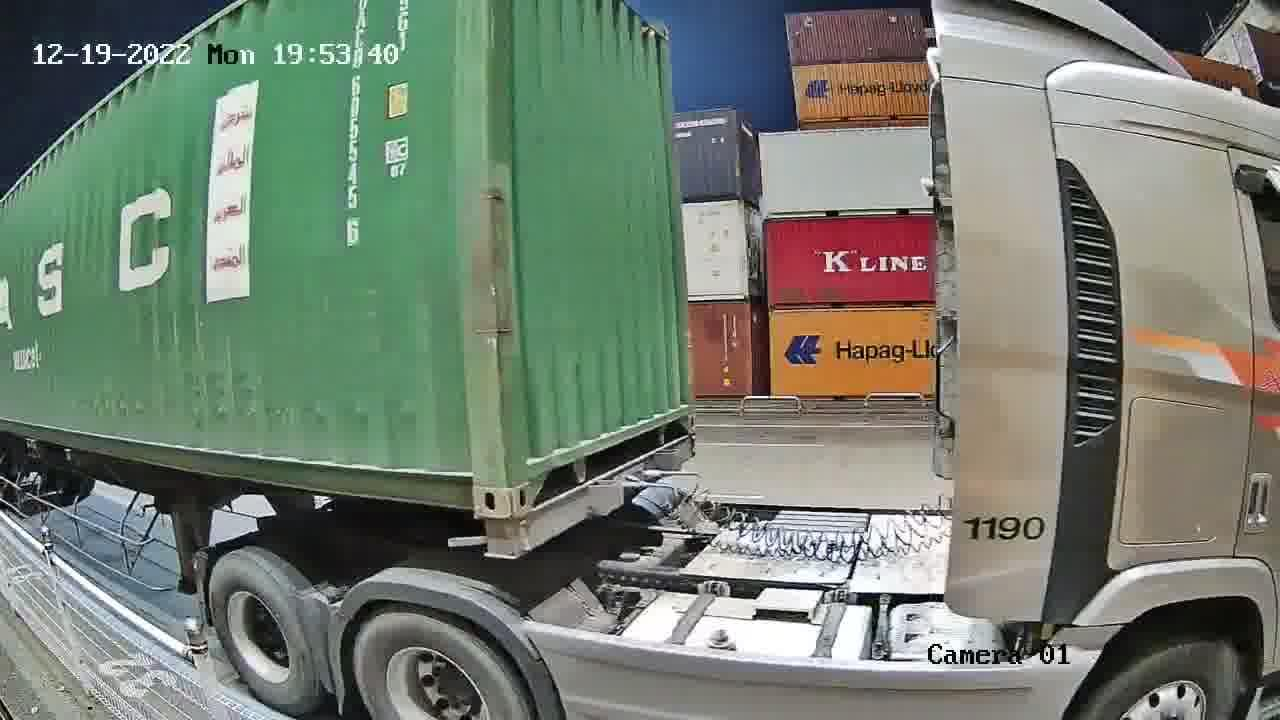Chassis: (481, 432, 697, 558)
Cone: (479, 517, 515, 554)
Hole_L: (505, 435, 561, 519)
Hole_R: (434, 445, 510, 516), (665, 388, 697, 440)
Tire: (353, 609, 520, 719), (212, 554, 315, 707)
